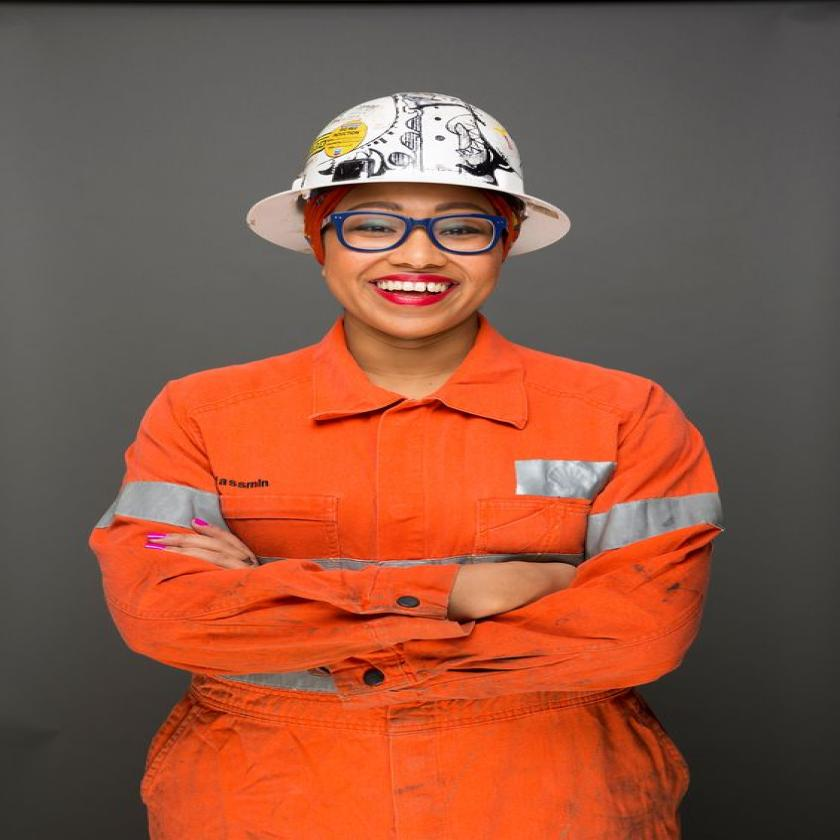Con_casco: (203, 62, 633, 368)
